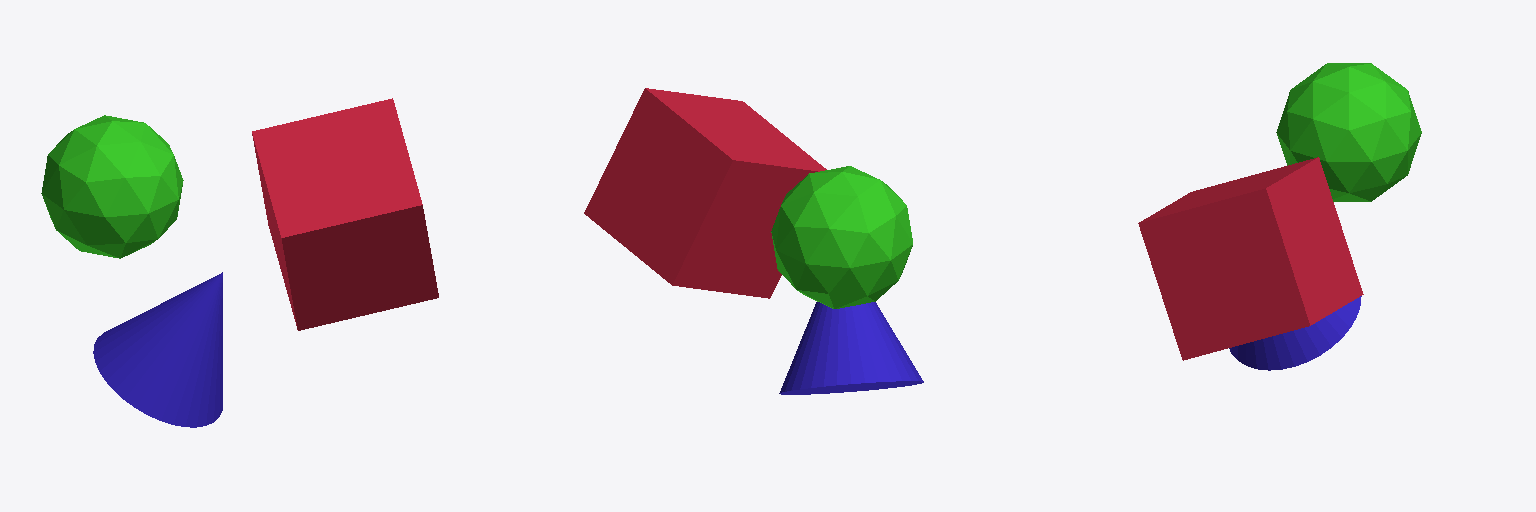
File: shapes.obj
3 renders of one model, left to right at view 1: azimuth 30°, elevation 25°; view 2: azimuth 150°, elevation 25°; view 3: azimuth 270°, elevation 25°, orthographic.
Visible parts, largest first — view 1: Cube, Icosphere, Cone; view 2: Cube, Icosphere, Cone; view 3: Cube, Icosphere, Cone.
Boxes of the visible parts, box(x1,y1,x2,y2) form: Cube: box(252, 98, 438, 330); Icosphere: box(41, 115, 183, 258); Cone: box(93, 272, 222, 427); Cube: box(584, 88, 826, 298); Icosphere: box(771, 166, 912, 308); Cone: box(779, 302, 923, 394); Cube: box(1138, 157, 1363, 360); Icosphere: box(1276, 63, 1421, 201); Cone: box(1229, 296, 1361, 370).
Size of the model in its own units: 5.36 by 4.13 by 3.9.